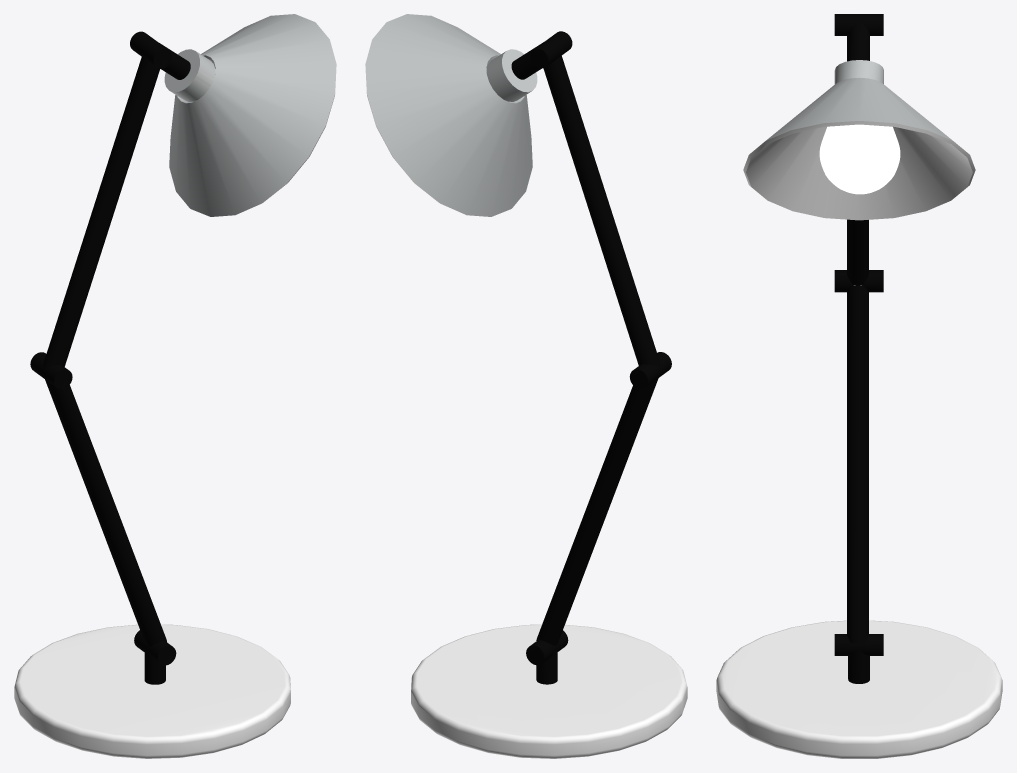
Rendered from staff-transformed.glb.
The picture shows the model from 3 angles, left to right: view 1: azimuth 30°, elevation 25°; view 2: azimuth 150°, elevation 25°; view 3: azimuth 270°, elevation 25°; orthographic projection. The views are drawn at different scales.
Visible parts, largest first — view 1: lamp_lambert1_0; view 2: lamp_lambert1_0; view 3: lamp_lambert1_0.
Boxes of the visible parts, x1,y1,x2,y2 form: lamp_lambert1_0: (14, 14, 336, 758); lamp_lambert1_0: (365, 14, 687, 758); lamp_lambert1_0: (716, 14, 1002, 758).
Bounding box in the file's own units: 8.68 × 19.43 × 7.36.
1 material, 1 textured.
